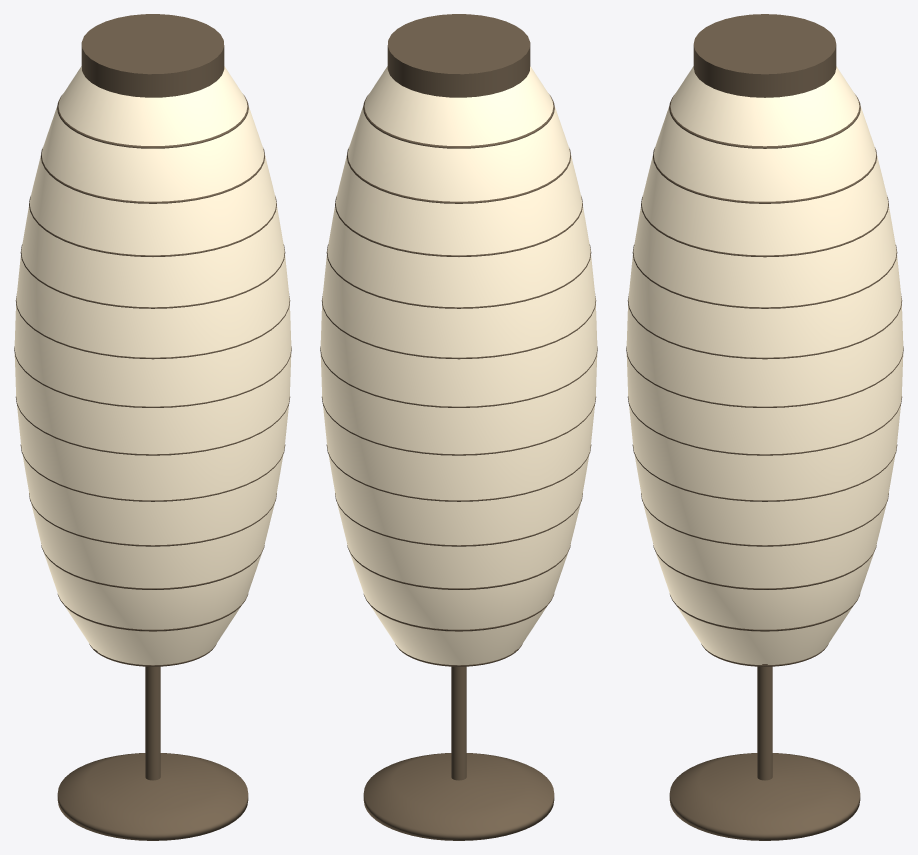
File: paperlantern.glb
3 renders of one model, left to right at view 1: azimuth 30°, elevation 25°; view 2: azimuth 150°, elevation 25°; view 3: azimuth 270°, elevation 25°, orthographic.
Visible parts, largest first — view 1: closed-paper-barrel-shell, weighted-paper-lamp-base, paper-lamp-top-cap, continuous-paper-lamp-spine, broad-paper-rib-11, broad-paper-rib-10, broad-paper-rib-9, broad-paper-rib-8, broad-paper-rib-7, broad-paper-rib-6, broad-paper-rib-5, broad-paper-rib-4 (+1 smaller); view 2: closed-paper-barrel-shell, weighted-paper-lamp-base, paper-lamp-top-cap, continuous-paper-lamp-spine, broad-paper-rib-11, broad-paper-rib-10, broad-paper-rib-9, broad-paper-rib-8, broad-paper-rib-7, broad-paper-rib-6, broad-paper-rib-5, broad-paper-rib-4 (+1 smaller); view 3: closed-paper-barrel-shell, weighted-paper-lamp-base, paper-lamp-top-cap, continuous-paper-lamp-spine, broad-paper-rib-11, broad-paper-rib-10, broad-paper-rib-9, broad-paper-rib-8, broad-paper-rib-7, broad-paper-rib-6, broad-paper-rib-5, broad-paper-rib-4 (+1 smaller).
Part boxes in pixels (box(x1,y1,x2,y2)): closed-paper-barrel-shell: box(14, 66, 291, 665); weighted-paper-lamp-base: box(57, 753, 248, 840); paper-lamp-top-cap: box(81, 14, 224, 97); continuous-paper-lamp-spine: box(145, 666, 160, 780); broad-paper-rib-11: box(57, 94, 248, 148); broad-paper-rib-10: box(41, 148, 264, 203); broad-paper-rib-9: box(29, 196, 276, 256); broad-paper-rib-8: box(20, 244, 285, 308); broad-paper-rib-7: box(15, 296, 290, 359); broad-paper-rib-6: box(14, 346, 291, 407); broad-paper-rib-5: box(15, 397, 290, 455); broad-paper-rib-4: box(20, 444, 285, 501); closed-paper-barrel-shell: box(320, 66, 597, 665); weighted-paper-lamp-base: box(363, 753, 554, 840); paper-lamp-top-cap: box(387, 14, 530, 97); continuous-paper-lamp-spine: box(451, 666, 466, 780); broad-paper-rib-11: box(363, 94, 554, 148); broad-paper-rib-10: box(347, 148, 570, 203); broad-paper-rib-9: box(335, 196, 582, 256); broad-paper-rib-8: box(326, 244, 591, 308); broad-paper-rib-7: box(321, 296, 596, 359); broad-paper-rib-6: box(320, 346, 597, 407); broad-paper-rib-5: box(321, 397, 596, 455); broad-paper-rib-4: box(326, 444, 591, 501); closed-paper-barrel-shell: box(626, 66, 903, 664); weighted-paper-lamp-base: box(669, 753, 860, 840); paper-lamp-top-cap: box(693, 14, 836, 97); continuous-paper-lamp-spine: box(757, 666, 772, 780); broad-paper-rib-11: box(669, 94, 860, 148); broad-paper-rib-10: box(653, 148, 876, 203); broad-paper-rib-9: box(641, 197, 888, 257); broad-paper-rib-8: box(632, 245, 897, 308); broad-paper-rib-7: box(627, 296, 902, 359); broad-paper-rib-6: box(626, 346, 903, 407); broad-paper-rib-5: box(627, 396, 902, 455); broad-paper-rib-4: box(632, 444, 897, 501).
Bounding box in the file's own units: 0.642 × 1.94 × 0.642.
